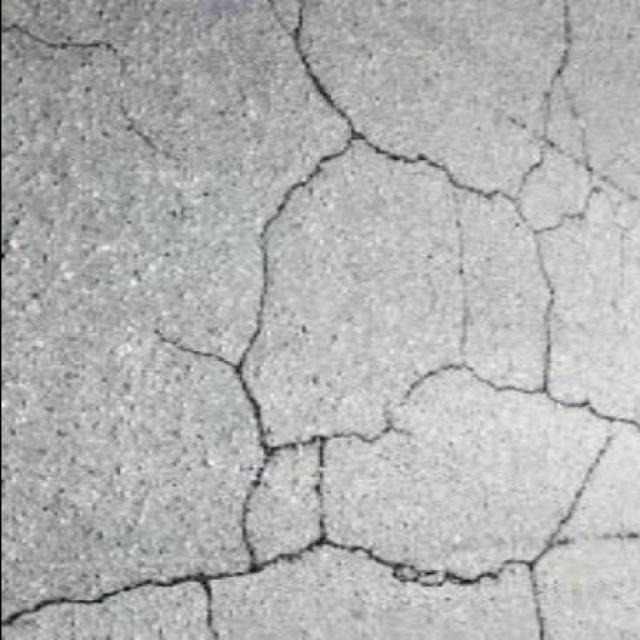Crack: (1, 2, 639, 640), (539, 0, 592, 176), (1, 25, 108, 48), (519, 154, 541, 188)
